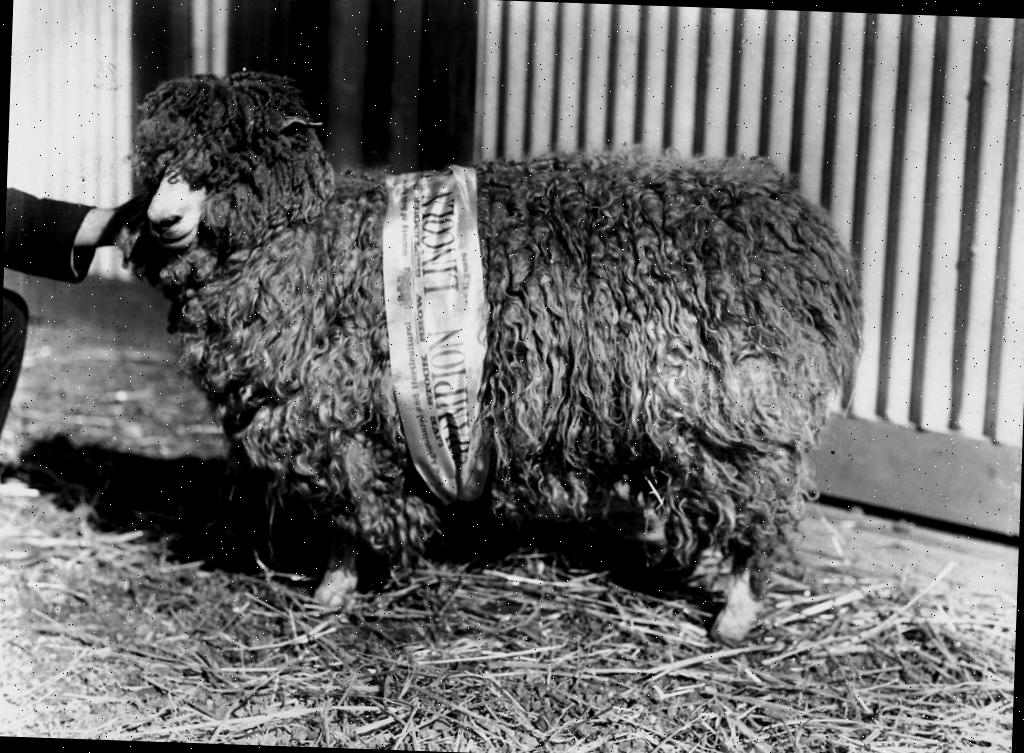Sheep: (102, 64, 871, 656)
